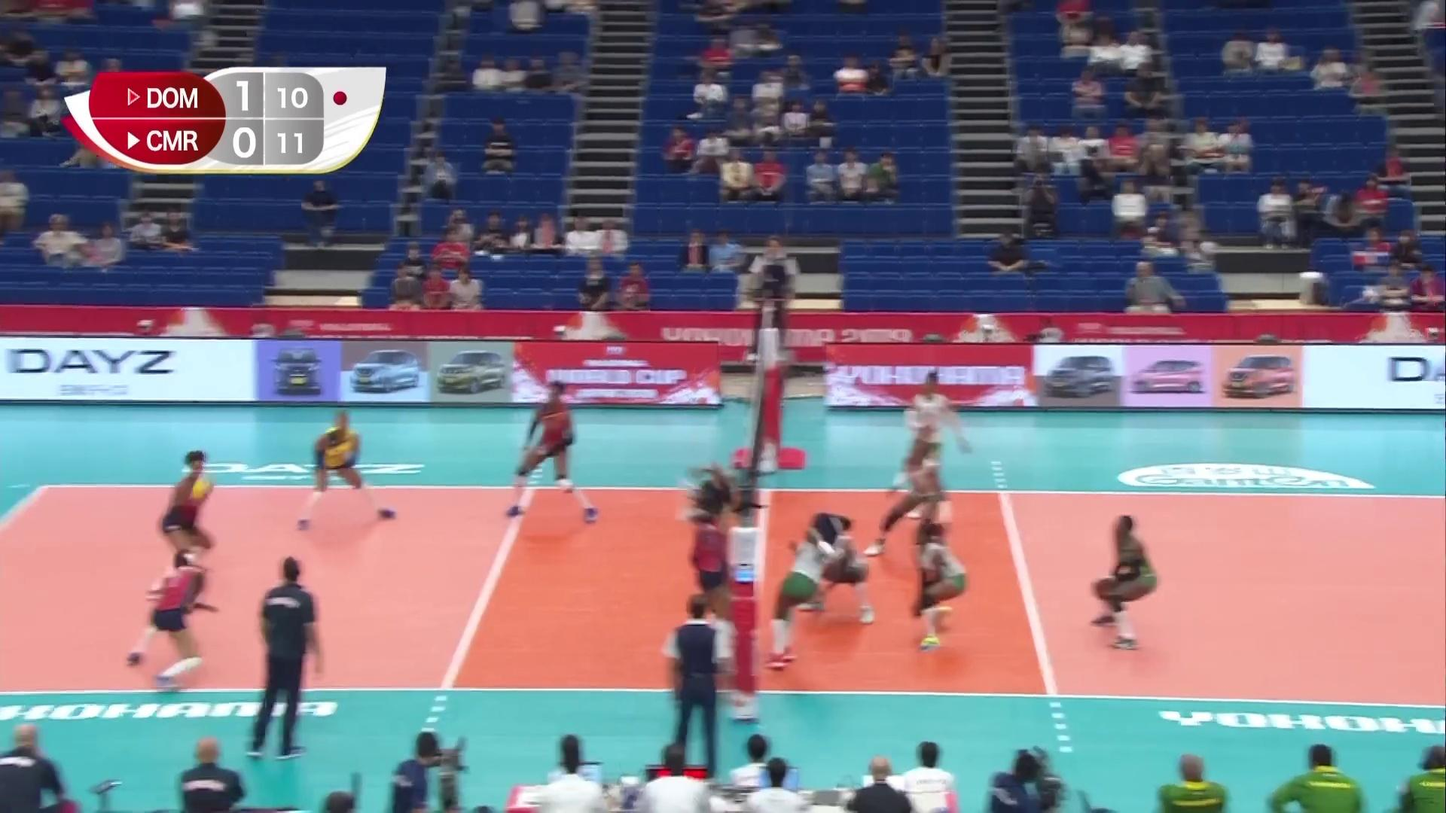player: (129, 549, 218, 689), (503, 386, 590, 524), (151, 451, 224, 612), (778, 510, 878, 627), (680, 497, 755, 652), (893, 377, 974, 519), (297, 411, 396, 525), (765, 517, 832, 669), (872, 440, 960, 554), (1092, 519, 1162, 650), (683, 463, 752, 581), (909, 531, 970, 655)
refree: (660, 601, 738, 762), (744, 229, 802, 365)
